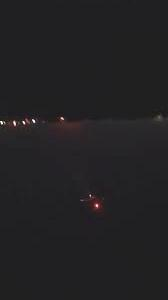Plane: (86, 194, 111, 219)
